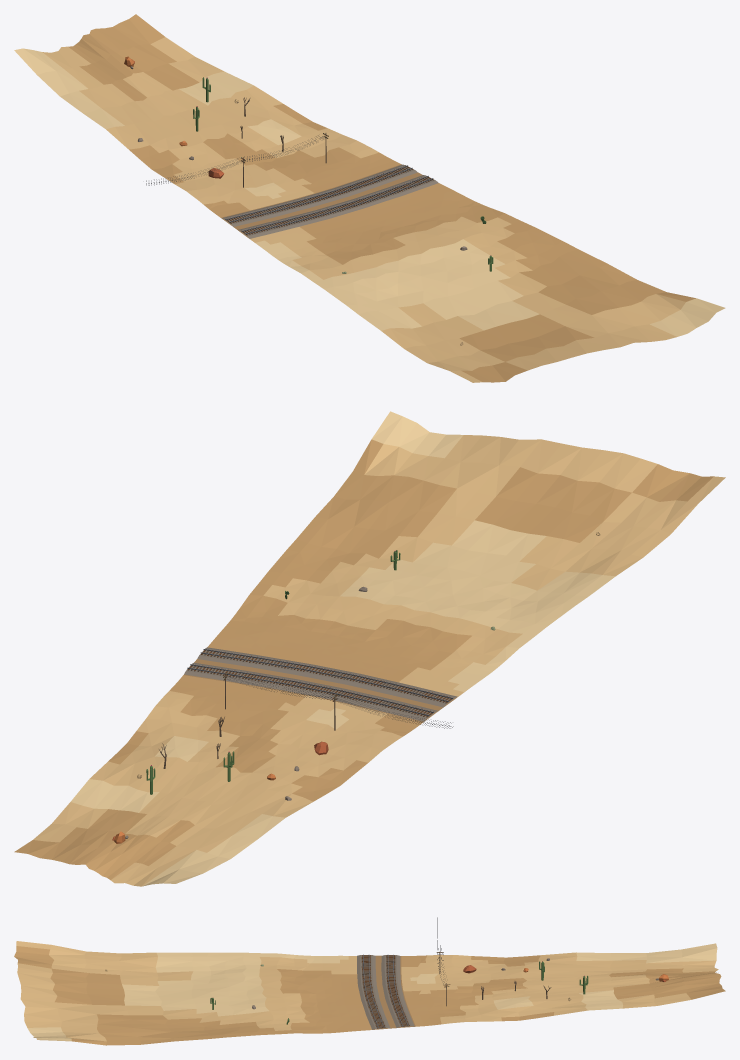
Rendered from SM_FG_Chunk_SideTrack_CurveL_A.fbx.
3 renders of one model, top to bottom at view 1: azimuth 30°, elevation 25°; view 2: azimuth 150°, elevation 25°; view 3: azimuth 270°, elevation 25°, orthographic. The views are drawn at different scales.
Visible parts, largest first — view 1: FG_Chunk_SideTrack_CurveL_A_Ground, FG_Chunk_SideTrack_CurveL_A_Track, FG_Chunk_SideTrack_CurveL_A_SceneryNear; view 2: FG_Chunk_SideTrack_CurveL_A_Ground, FG_Chunk_SideTrack_CurveL_A_Track, FG_Chunk_SideTrack_CurveL_A_SceneryNear; view 3: FG_Chunk_SideTrack_CurveL_A_Ground, FG_Chunk_SideTrack_CurveL_A_Track, FG_Chunk_SideTrack_CurveL_A_SceneryNear.
Boxes of the visible parts, x1,y1,x2,y2 form: FG_Chunk_SideTrack_CurveL_A_Ground: (14, 14, 725, 382); FG_Chunk_SideTrack_CurveL_A_Track: (221, 164, 438, 238); FG_Chunk_SideTrack_CurveL_A_SceneryNear: (124, 56, 493, 345); FG_Chunk_SideTrack_CurveL_A_Ground: (14, 411, 725, 886); FG_Chunk_SideTrack_CurveL_A_Track: (184, 647, 457, 721); FG_Chunk_SideTrack_CurveL_A_SceneryNear: (112, 532, 600, 843); FG_Chunk_SideTrack_CurveL_A_Ground: (14, 941, 725, 1045); FG_Chunk_SideTrack_CurveL_A_Track: (357, 954, 414, 1029); FG_Chunk_SideTrack_CurveL_A_SceneryNear: (105, 917, 668, 1024).
Size of the model in its own units: 7956 by 20355 by 794.
